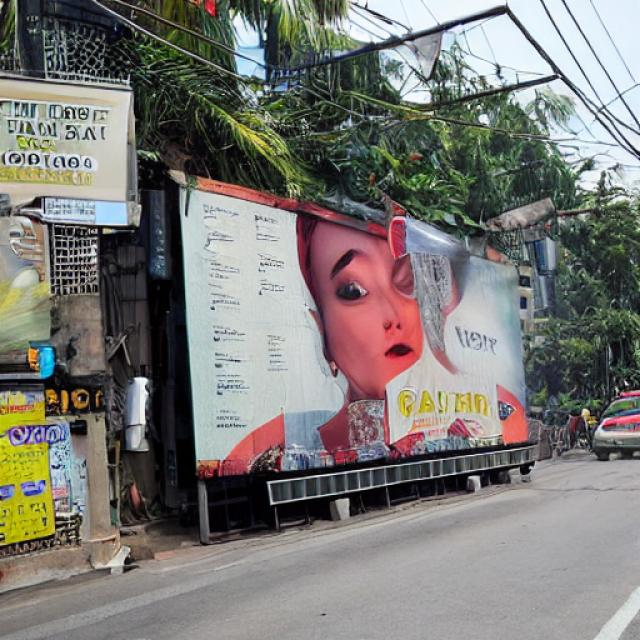Billboard: (172, 176, 523, 484)
